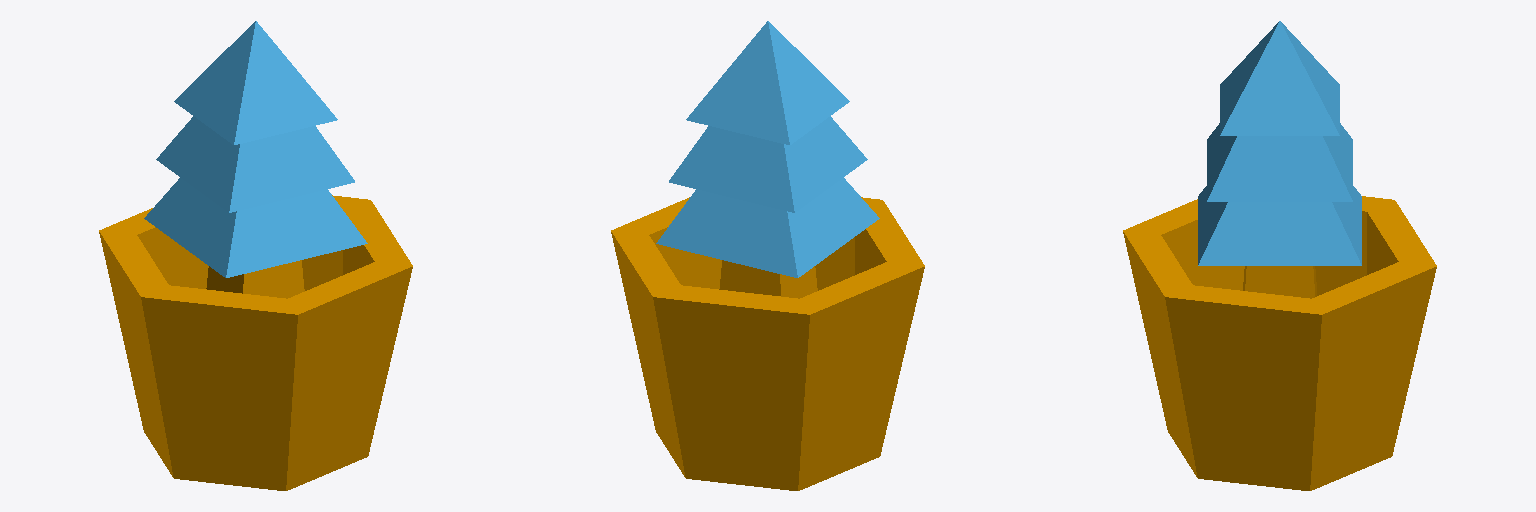
robot.urdf — small_potted_plant:
<?xml version="1.0"?>
<robot name="small_potted_plant">
  <link name="pot">
    <inertial>
        <origin rpy="0 0 0" xyz="0 0 0"/>
        <mass value="0.5"/>
        <inertia ixx="4.4e-5" ixy="0" ixz="0" iyy="0" iyz="0" izz="4.4e-5"/>
    </inertial>
    <visual>
      <geometry>
        <mesh filename="pot.obj"/>
      </geometry>
    </visual>
    <collision>
      <geometry>
        <mesh filename="pot.obj"/>
      </geometry>
      <surface>
           <bounce restitution_coefficient = "0.1"/>
      </surface>
    </collision>
  </link>
  <link name="plant">
    <inertial>
        <origin rpy="0 0 0" xyz="0 0 0"/>
        <mass value="0.3"/>
        <inertia ixx="4.4e-5" ixy="0" ixz="0" iyy="0" iyz="0" izz="4.4e-5"/>
    </inertial>
    <visual>
      <geometry>
        <mesh filename="plant.obj"/>
      </geometry>
    </visual>
    <collision>
      <geometry>
        <mesh filename="plant.obj"/>
      </geometry>
      <surface>
           <bounce restitution_coefficient = "0.1"/>
      </surface>
    </collision>
  </link>
  <joint name="pot_to_plant" type="fixed">
    <parent link="pot"/>
    <child link="plant"/>
    <origin rpy="0 0 0" xyz="0 0 0.056"/>
  </joint>
</robot>

--- Facts derived from the render (not from the file) ---
The picture shows the robot from 3 angles, left to right: view 1: azimuth 30°, elevation 25°; view 2: azimuth 150°, elevation 25°; view 3: azimuth 270°, elevation 25°; orthographic projection.
Robot: small_potted_plant — 2 links, 1 joints (1 fixed); root link pot; default pose: all joints at 0.
Visible links, largest first — view 1: pot, plant; view 2: pot, plant; view 3: pot, plant.
Boxes of the visible links, x1,y1,x2,y2 form: pot: (99,195,412,490); plant: (144,21,367,277); pot: (611,197,924,490); plant: (656,21,879,277); pot: (1123,196,1436,490); plant: (1198,21,1361,265).
Size in the robot's own frame: 0.0947 by 0.0947 by 0.1407 metres.
Meshes: 2 distinct files referenced, 2 mesh visuals loaded (2 OBJ).